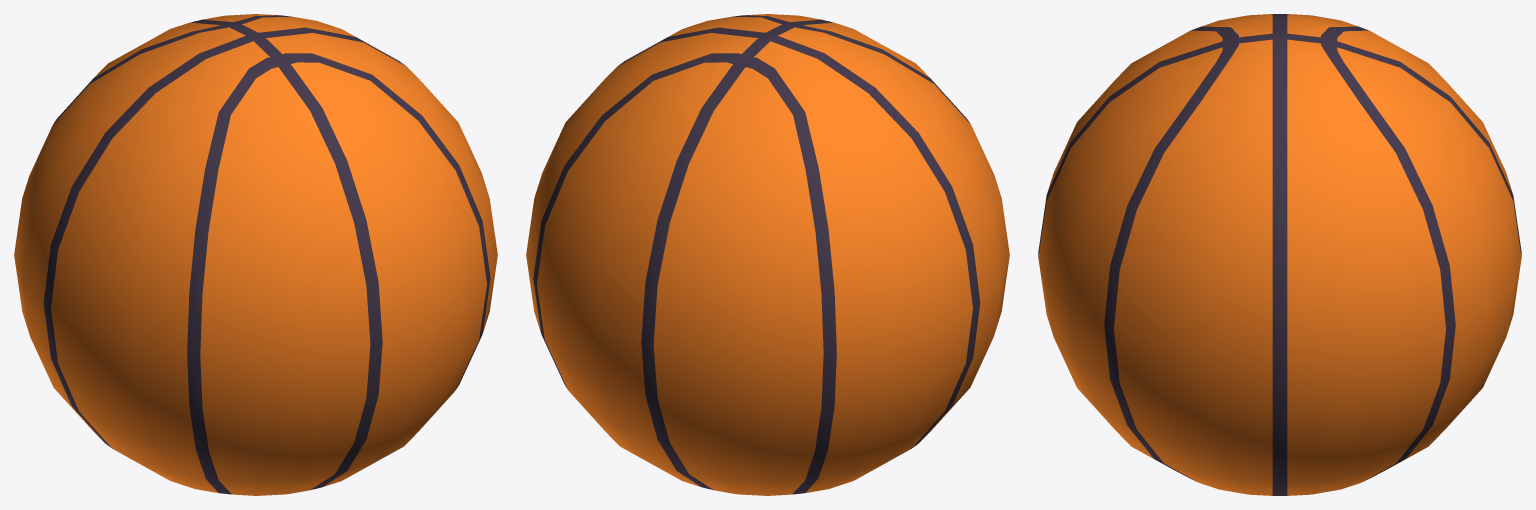
File: Basketball_Orange.fbx
3 views of the same model, side by side, from view 1: azimuth 30°, elevation 25°; view 2: azimuth 150°, elevation 25°; view 3: azimuth 270°, elevation 25° (orthographic).
Parts seen in each view (by area): view 1: Basketball_Orange; view 2: Basketball_Orange; view 3: Basketball_Orange.
Part boxes in pixels (bbox=[...]): Basketball_Orange: bbox=[14, 14, 497, 495]; Basketball_Orange: bbox=[526, 14, 1009, 495]; Basketball_Orange: bbox=[1038, 14, 1521, 495].
Bounding box in the file's own units: 95.63 × 95.47 × 95.72.
